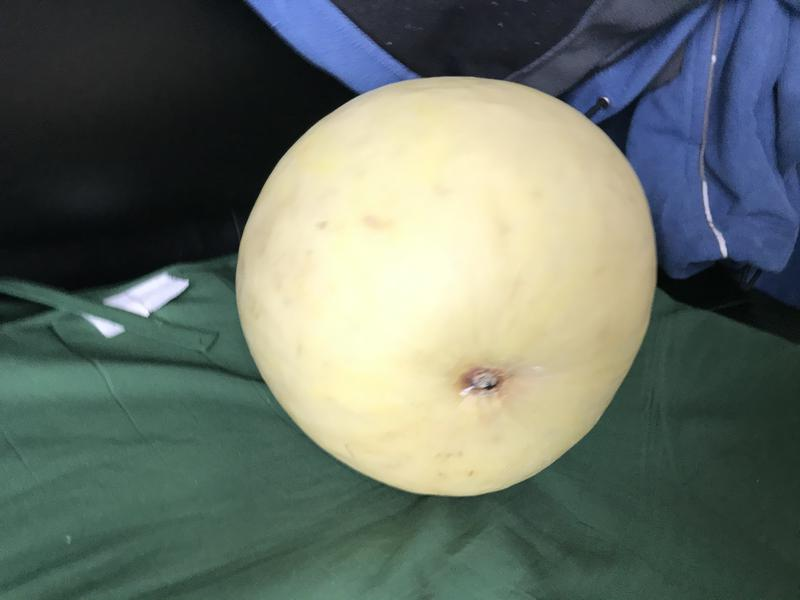honeydew: (229, 66, 670, 516)
